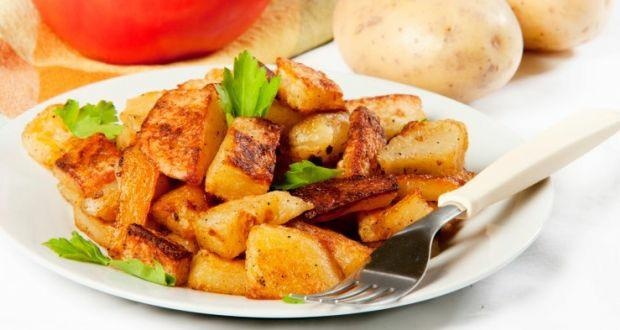AlooMasala: (22, 50, 476, 302)
